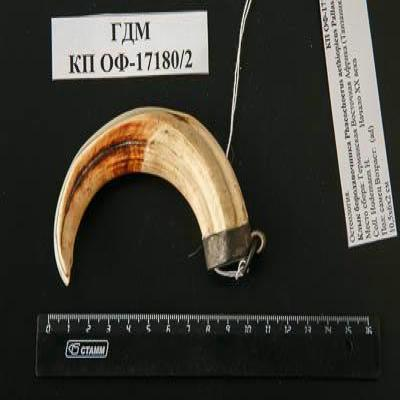natural_science_collection: (53, 108, 266, 286)
